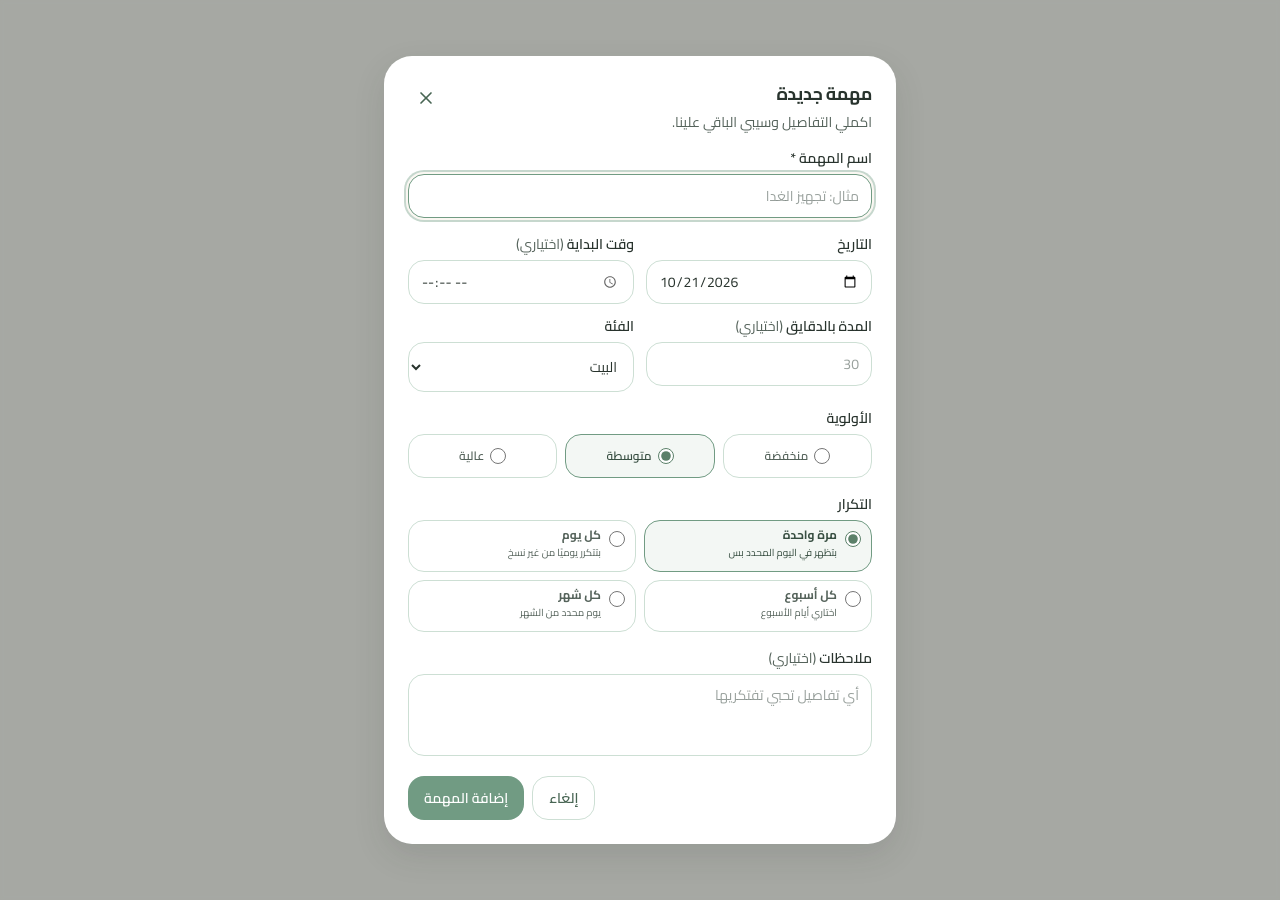
it: نموذج المهمة › يتحقق من أيام الأسبوع في التكرار الأسبوعي
In the field labelled "اسم المهمة *": (640, 196) [408,174,872,218], type "غسيل"
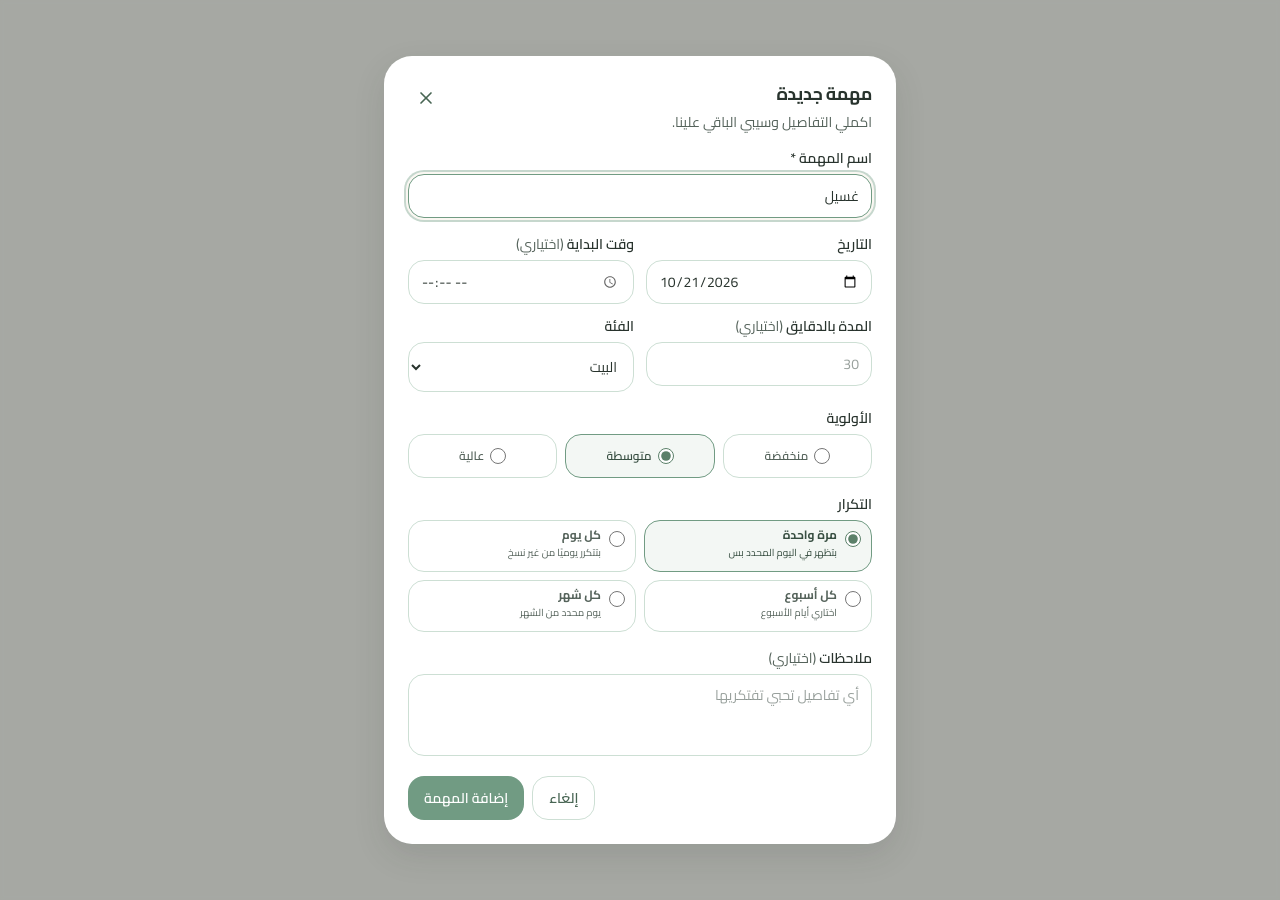
Click the radio button labelled "كل أسبوع اختاري أيام الأسبوع": (853, 599) [845,591,861,607]
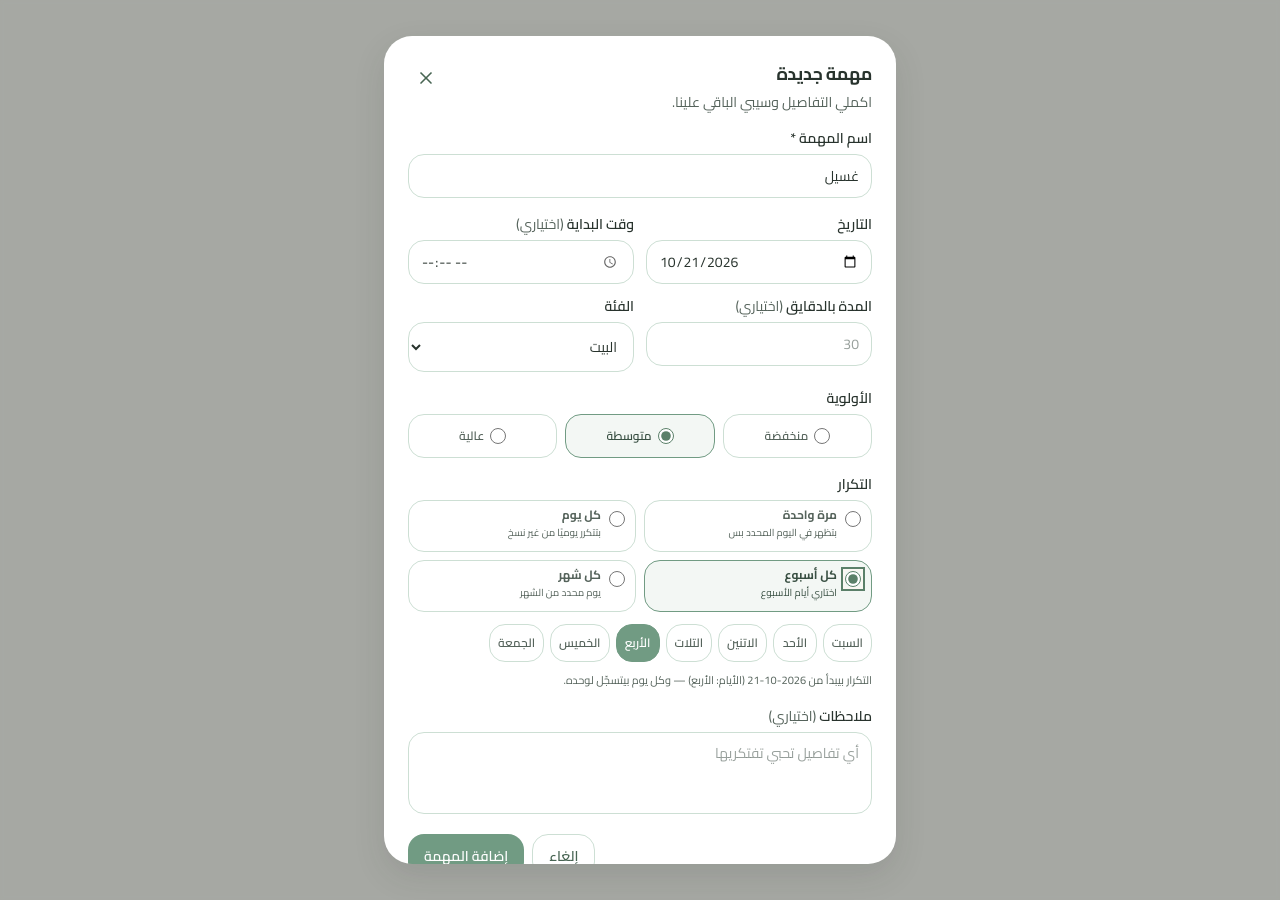
Click the button "الأربع": (638, 643) [616,624,660,662]
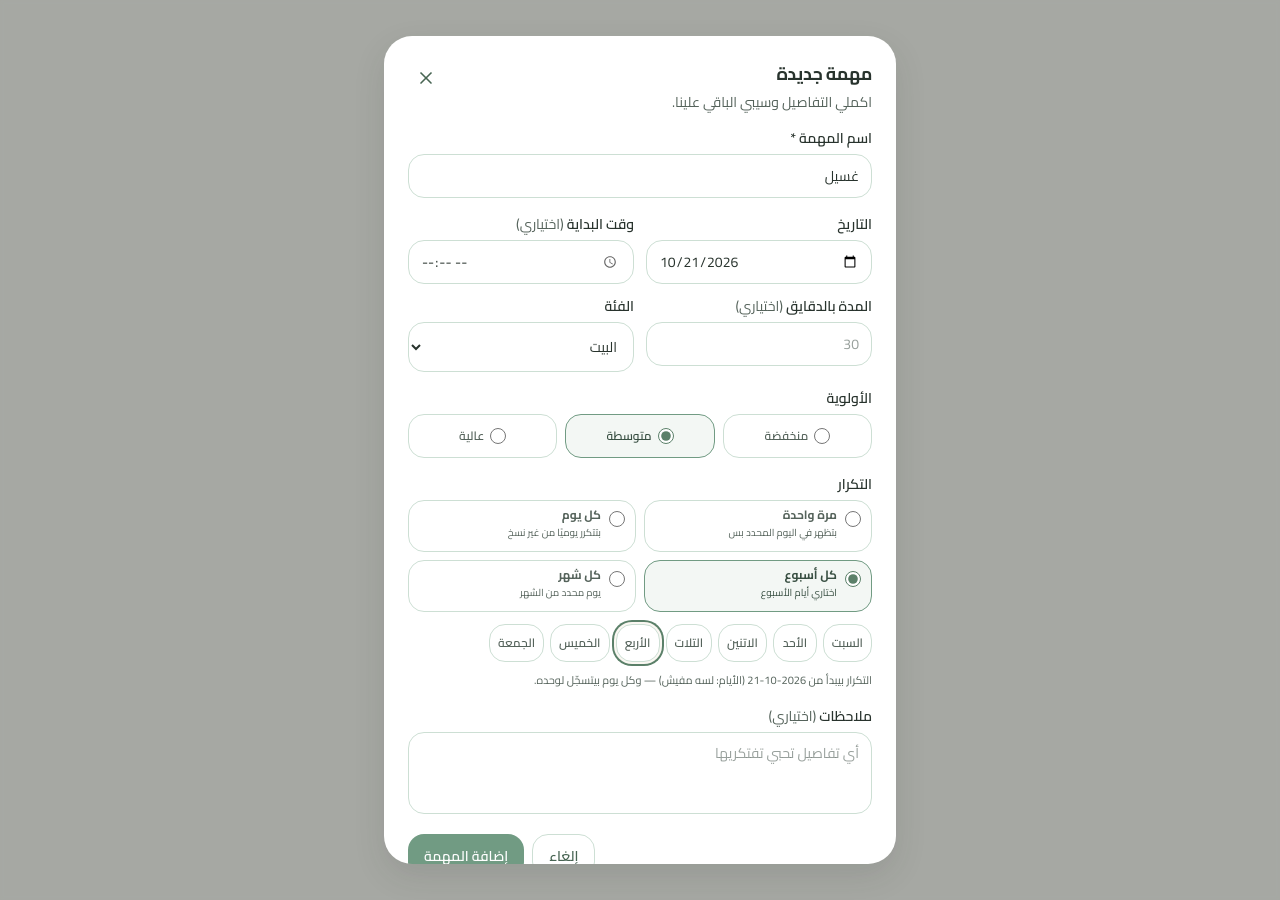
Click the button "إضافة المهمة": (466, 856) [408,834,524,878]
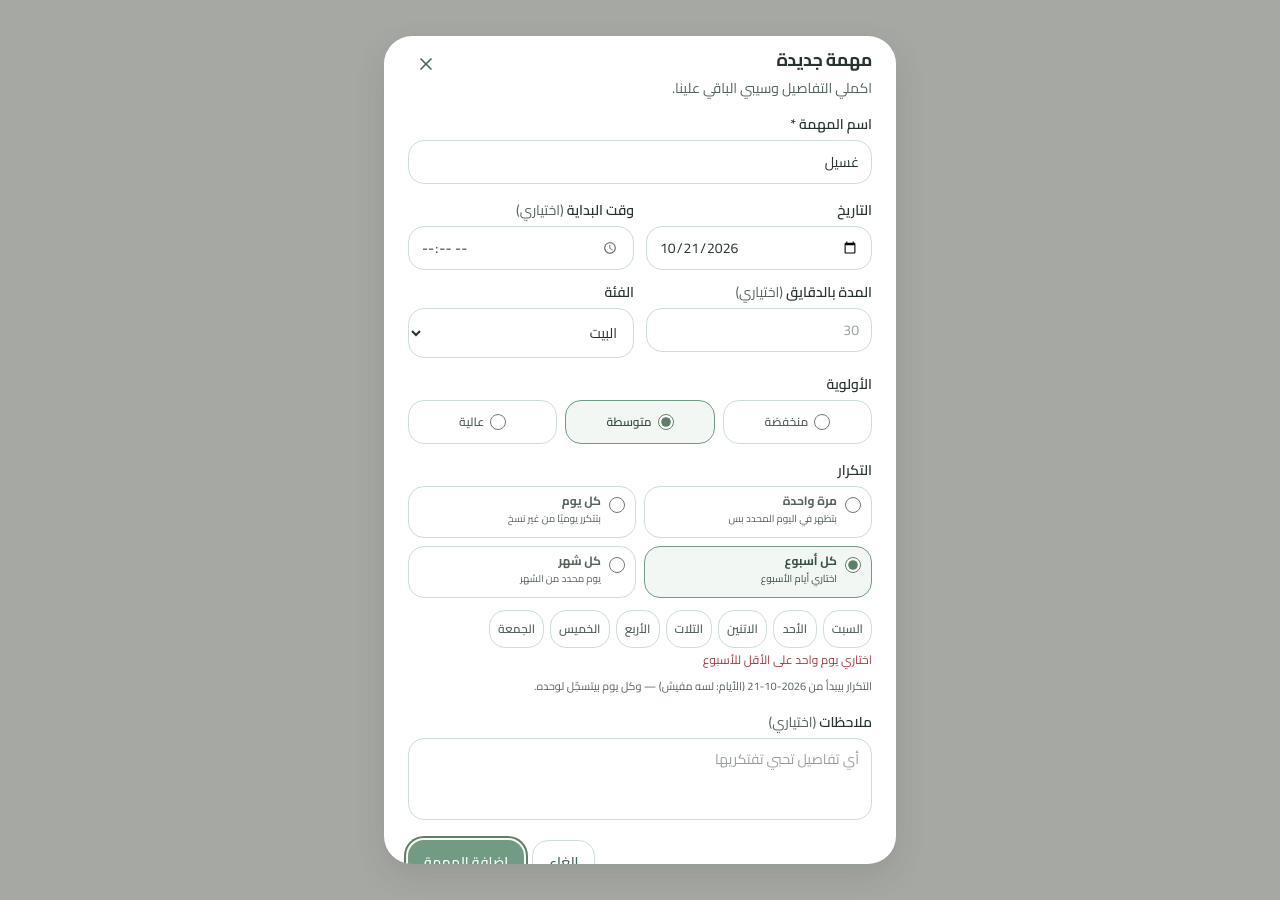
Check: the text "اختاري يوم واحد على الأقل للأسبوع" is shown, box [703,648,872,671]
